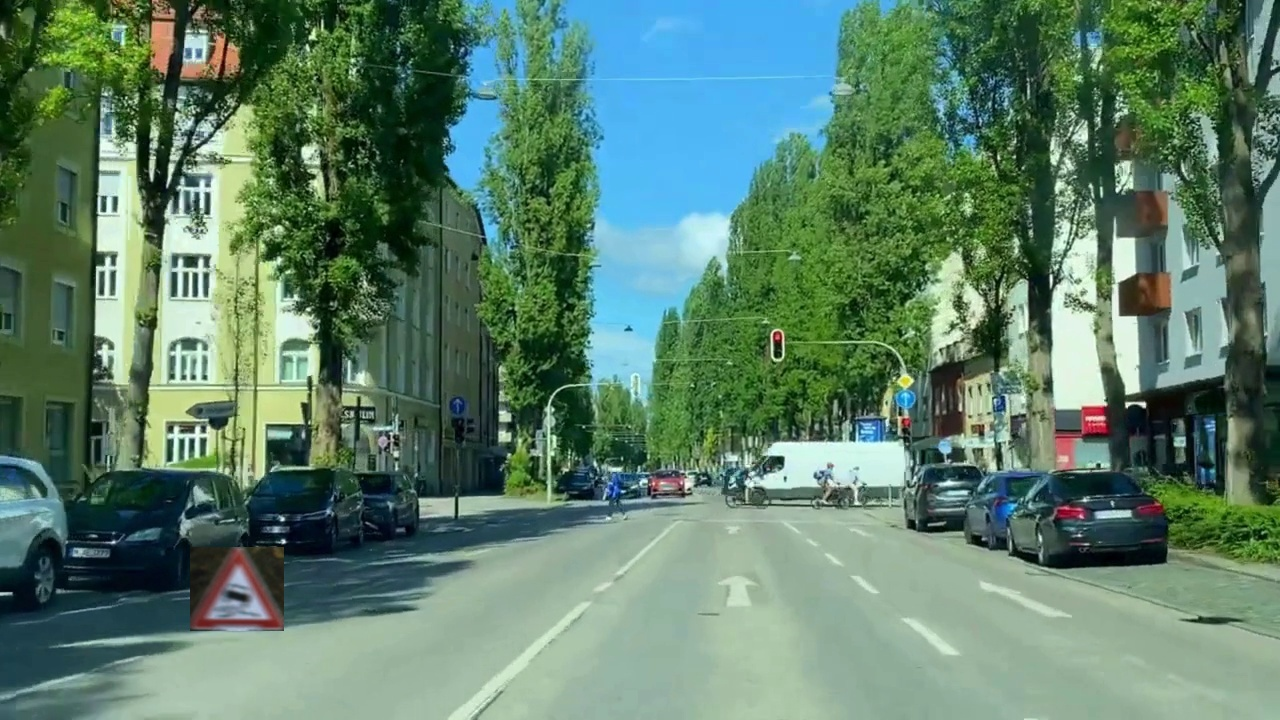Slippery: (190, 547, 284, 631)
